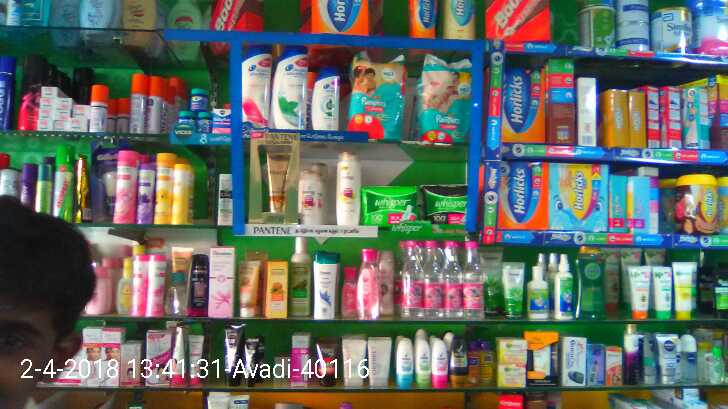vicks: (179, 82, 232, 138)
